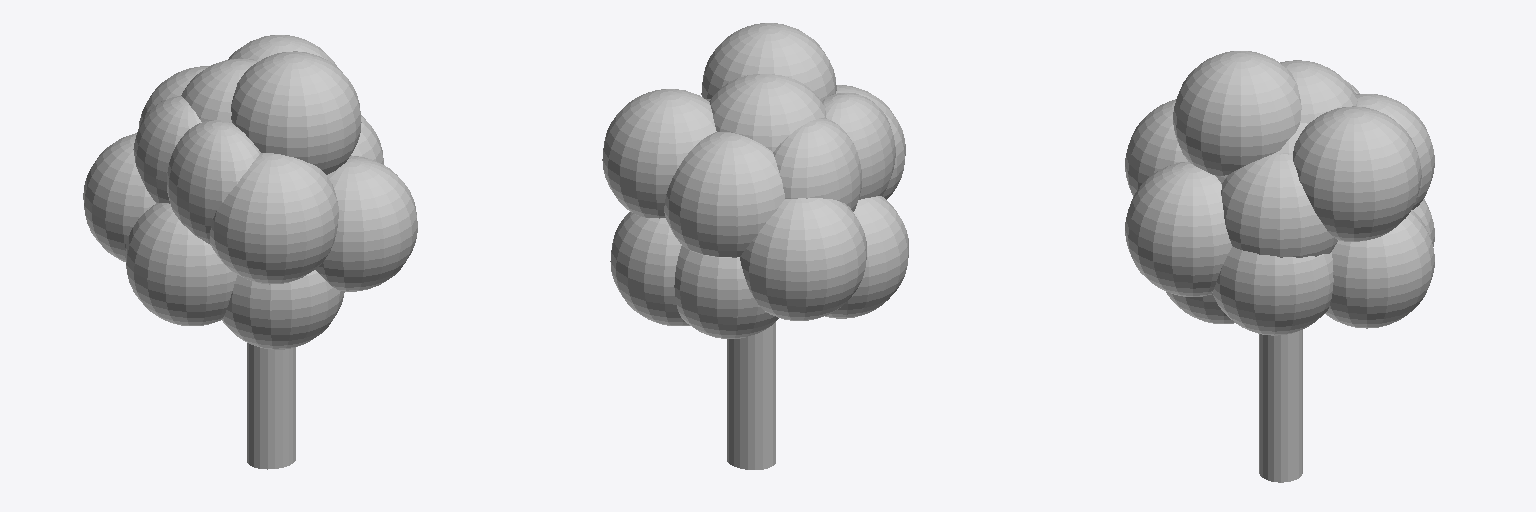
The model's file is Tree 2 colored.obj.
3 renders of one model, left to right at view 1: azimuth 30°, elevation 25°; view 2: azimuth 150°, elevation 25°; view 3: azimuth 270°, elevation 25°, orthographic.
Parts seen in each view (by area): view 1: Tree_Top1 Tree_Top10, Tree_Top1 Tree_Top2, Tree_Top1 Tree_Top12, Tree_Top1 Tree_Top14, Tree_Top1 Tree_Top_8, Tree_Top1 Tree_Top16, Tree_Top1 Trunck, Tree_Top1 Tree_Top15, Tree_Top1 Tree_Top_4, Tree_Top1 Tree_Top5, Tree_Top1 Tree_Top9, Tree_Top1 Tree_Top6 (+1 smaller); view 2: Tree_Top1 Tree_Top15, Tree_Top1 Tree_Top6, Tree_Top1 Tree_Top9, Tree_Top1 Trunck, Tree_Top1 Tree_Top2, Tree_Top1 Tree_Top3, Tree_Top1 Tree_Top7, Tree_Top1 Tree_Top5, Tree_Top1 Tree_Top_4, Tree_Top1 Tree_Top14, Tree_Top1 Tree_Top_8, Tree_Top1 Tree_Top10; view 3: Tree_Top1 Tree_Top9, Tree_Top1 Tree_Top2, Tree_Top1 Tree_Top12, Tree_Top1 Tree_Top7, Tree_Top1 Tree_Top11, Tree_Top1 Tree_Top13, Tree_Top1 Trunck, Tree_Top1 Tree_Top10, Tree_Top1 Tree_Top5, Tree_Top1 Tree_Top6, Tree_Top1 Tree_Top16.
Boxes of the visible parts, box(x1,y1,x2,y2) form: Tree_Top1 Tree_Top10: box(210, 153, 338, 284); Tree_Top1 Tree_Top2: box(231, 51, 361, 174); Tree_Top1 Tree_Top12: box(315, 156, 417, 291); Tree_Top1 Tree_Top14: box(125, 203, 236, 325); Tree_Top1 Tree_Top_8: box(167, 120, 260, 244); Tree_Top1 Tree_Top16: box(222, 270, 344, 349); Tree_Top1 Trunck: box(247, 343, 295, 469); Tree_Top1 Tree_Top15: box(83, 133, 155, 261); Tree_Top1 Tree_Top_4: box(133, 96, 201, 203); Tree_Top1 Tree_Top5: box(181, 58, 258, 122); Tree_Top1 Tree_Top9: box(228, 35, 336, 65); Tree_Top1 Tree_Top6: box(139, 66, 208, 126); Tree_Top1 Tree_Top15: box(740, 198, 866, 320); Tree_Top1 Tree_Top6: box(664, 132, 784, 257); Tree_Top1 Tree_Top9: box(602, 89, 716, 218); Tree_Top1 Trunck: box(727, 322, 775, 469); Tree_Top1 Tree_Top2: box(701, 23, 836, 101); Tree_Top1 Tree_Top3: box(674, 245, 778, 338); Tree_Top1 Tree_Top7: box(610, 212, 689, 325); Tree_Top1 Tree_Top5: box(709, 74, 826, 151); Tree_Top1 Tree_Top_4: box(773, 118, 861, 211); Tree_Top1 Tree_Top14: box(825, 196, 908, 318); Tree_Top1 Tree_Top_8: box(822, 93, 895, 199); Tree_Top1 Tree_Top10: box(836, 85, 905, 199); Tree_Top1 Tree_Top9: box(1293, 106, 1421, 241); Tree_Top1 Tree_Top2: box(1173, 51, 1301, 175); Tree_Top1 Tree_Top12: box(1125, 162, 1231, 296); Tree_Top1 Tree_Top7: box(1325, 210, 1434, 328); Tree_Top1 Tree_Top11: box(1221, 153, 1337, 257); Tree_Top1 Tree_Top13: box(1212, 246, 1333, 335); Tree_Top1 Trunck: box(1259, 330, 1302, 482); Tree_Top1 Tree_Top10: box(1125, 99, 1187, 196); Tree_Top1 Tree_Top5: box(1280, 60, 1357, 123); Tree_Top1 Tree_Top6: box(1356, 94, 1434, 209); Tree_Top1 Tree_Top16: box(1166, 292, 1234, 323).
Size of the model in its own units: 4.32 by 6.75 by 4.56.